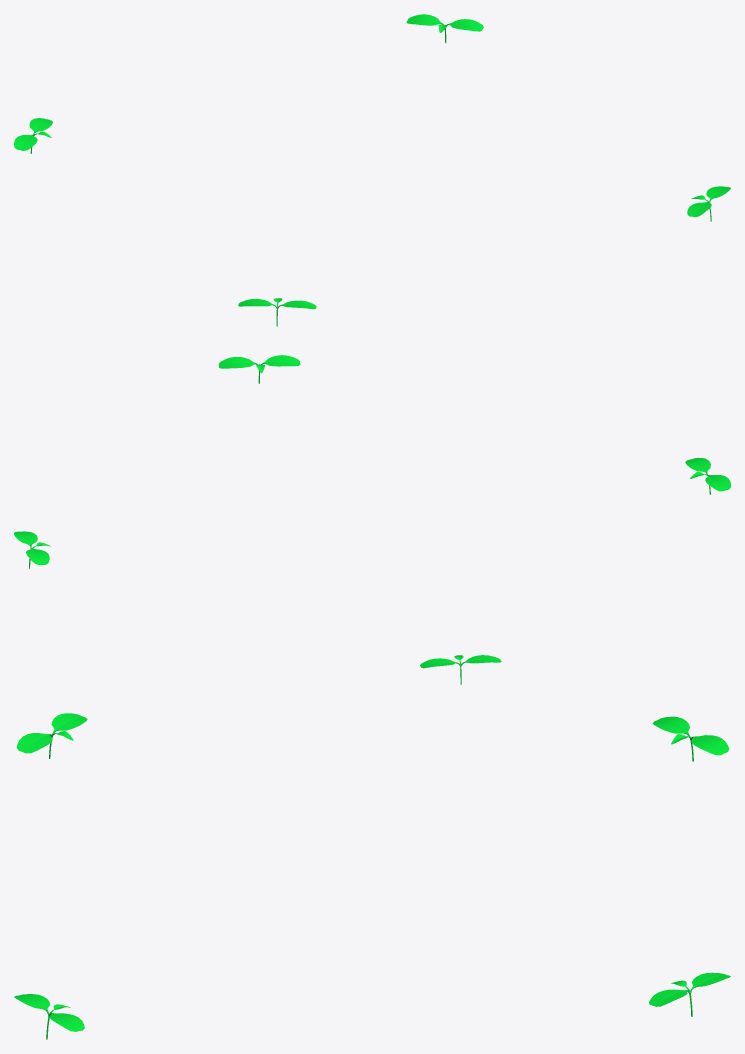
The model's file is Watermelon_lvl1.fbx.
3 views of the same model, one above another, from view 1: azimuth 30°, elevation 25°; view 2: azimuth 150°, elevation 25°; view 3: azimuth 270°, elevation 25° (orthographic). The views are drawn at different scales.
Visible parts, largest first — view 1: Watermelon_lvl1_LOD0; view 2: Watermelon_lvl1_LOD0; view 3: Watermelon_lvl1_LOD0.
Boxes of the visible parts, bbox=[...] form: Watermelon_lvl1_LOD0: bbox=[14, 14, 730, 326]; Watermelon_lvl1_LOD0: bbox=[14, 355, 730, 684]; Watermelon_lvl1_LOD0: bbox=[14, 713, 730, 1039].
Size of what is drawn, in the model's own units: 89.72 by 94.46 by 5.98.
